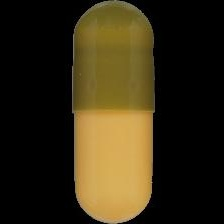0378-2537: (0, 0, 224, 224)
